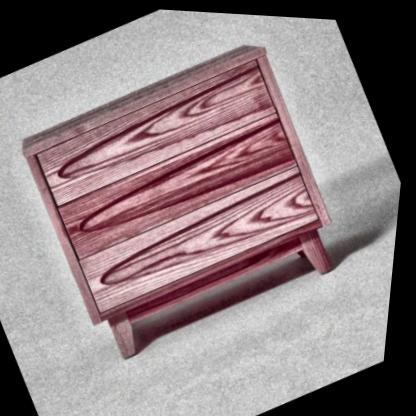Nightstand: (2, 22, 372, 377)
